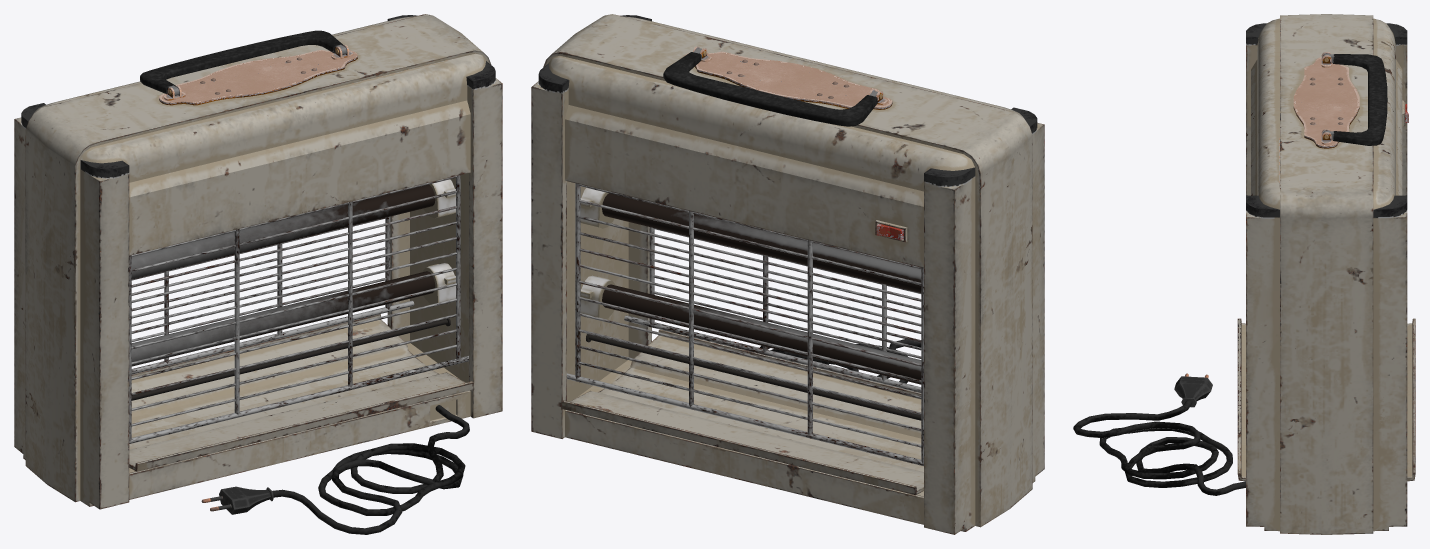
File: Heater.fbx
3 views of the same model, side by side, from view 1: azimuth 30°, elevation 25°; view 2: azimuth 150°, elevation 25°; view 3: azimuth 270°, elevation 25° (orthographic). The views are drawn at different scales.
Parts seen in each view (by area): view 1: Heater; view 2: Heater; view 3: Heater.
Boxes of the visible parts, x1,y1,x2,y2 form: Heater: (14,14,502,534); Heater: (531,14,1044,534); Heater: (1073,14,1415,534).
Size of the model in its own units: 248 by 206 by 185.
